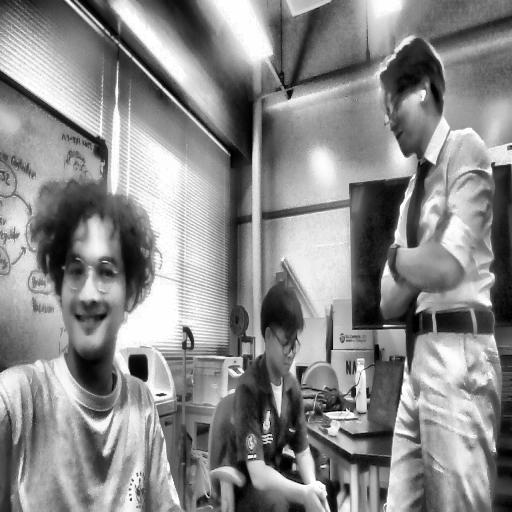Daifuku: (38, 181, 158, 367)
Not Daifuku: (381, 34, 445, 156), (260, 279, 303, 380)
